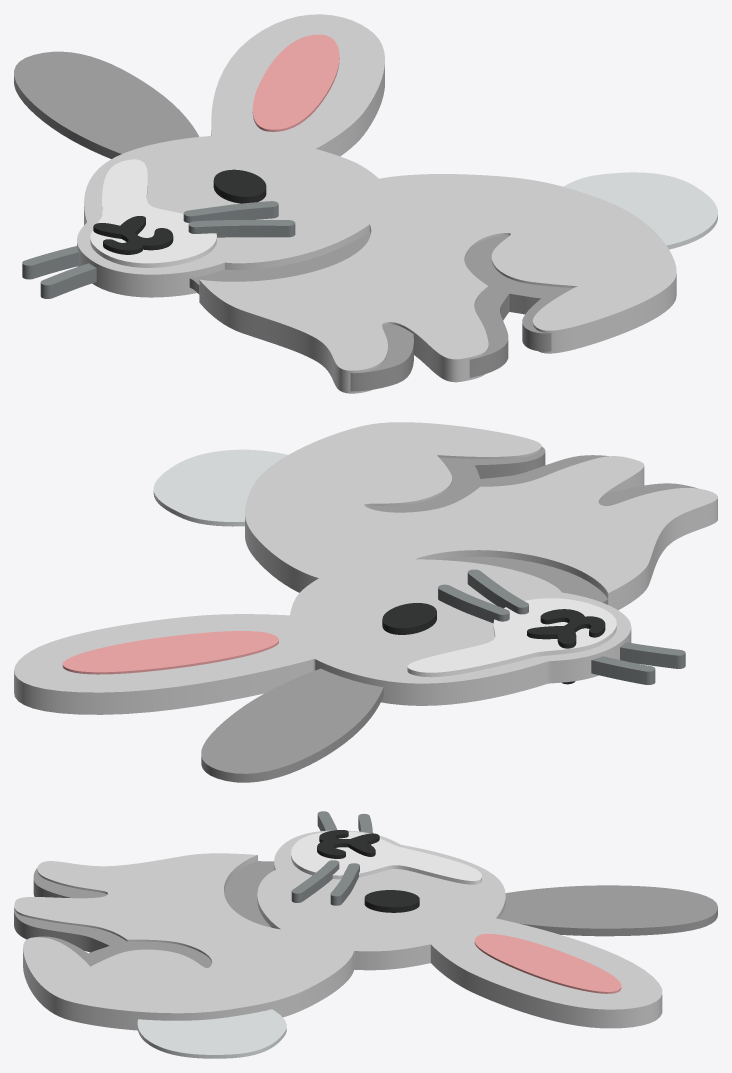
The model's file is emoji_u1f407.glb.
3 renders of one model, top to bottom at view 1: azimuth 30°, elevation 25°; view 2: azimuth 150°, elevation 25°; view 3: azimuth 270°, elevation 25°, orthographic. The views are drawn at different scales.
Parts seen in each view (by area): view 1: emoji_u1f407; view 2: emoji_u1f407; view 3: emoji_u1f407.
Part boxes in pixels (left/top/right/bottom): emoji_u1f407: left=14, top=14, right=717, bottom=393; emoji_u1f407: left=14, top=422, right=717, bottom=782; emoji_u1f407: left=14, top=811, right=717, bottom=1058.
Size of the model in its own units: 0.0273 by 0.002 by 0.0338.
